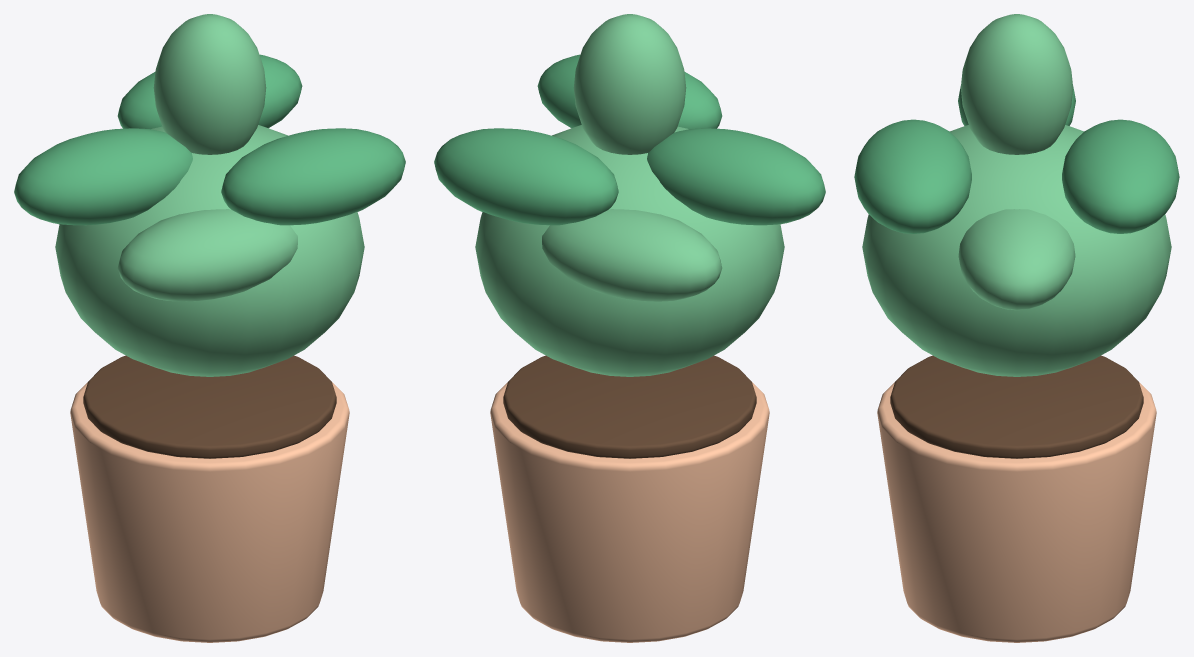
Rendered from plant.glb.
The picture shows the model from 3 angles, left to right: view 1: azimuth 30°, elevation 25°; view 2: azimuth 150°, elevation 25°; view 3: azimuth 270°, elevation 25°; orthographic projection.
Parts seen in each view (by area): view 1: plant; view 2: plant; view 3: plant.
Boxes of the visible parts, x1=… form: plant: x1=14, y1=14, x2=405, y2=642; plant: x1=434, y1=14, x2=825, y2=642; plant: x1=854, y1=14, x2=1179, y2=642.
Bounding box in the file's own units: 0.628 × 0.91 × 0.4624.
